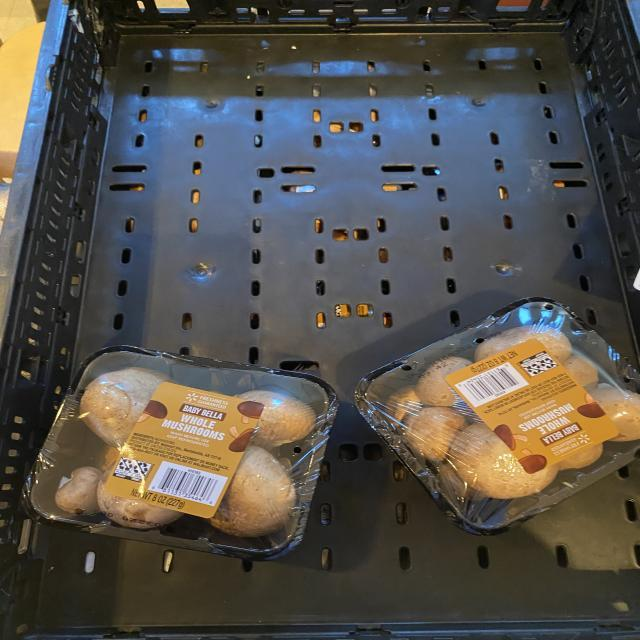Mushrooms: (23, 345, 338, 560), (355, 299, 638, 535)
